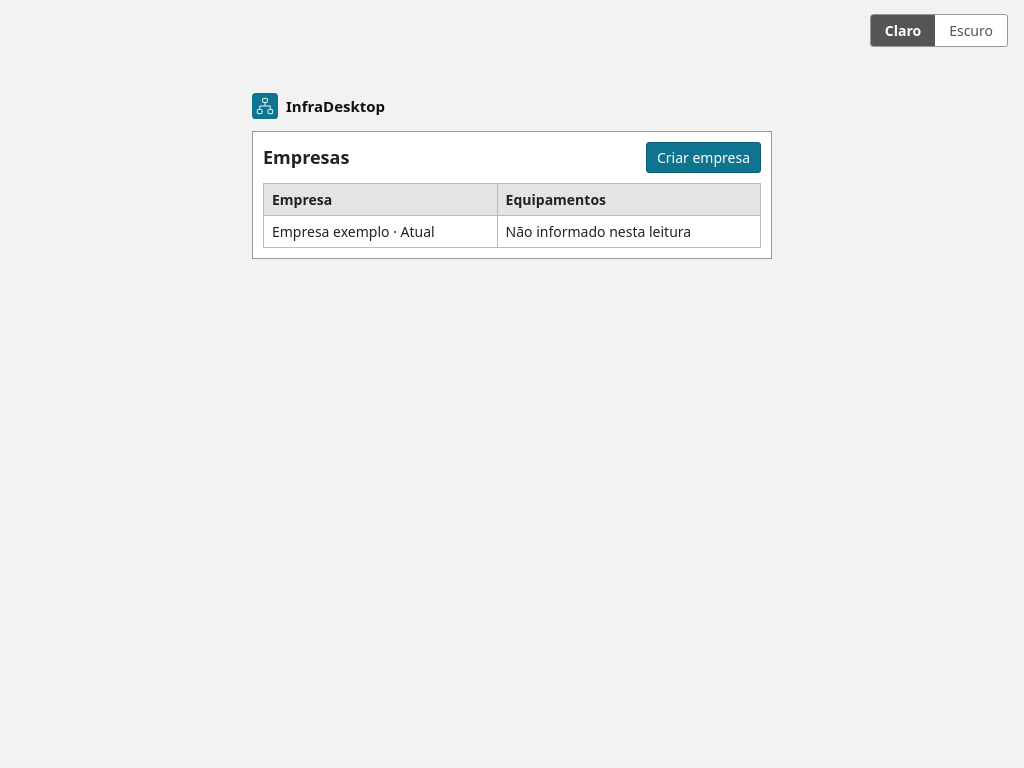
Test case: opens the company list for remembered session and keeps the page after reconnecting
Expected: the heading "Empresas" is shown, [263,145,349,169]
Expected: the text "· Atual" is shown, [390,222,435,241]
Click the text "Empresa exemplo" at (380, 231), box [264,215,497,247]
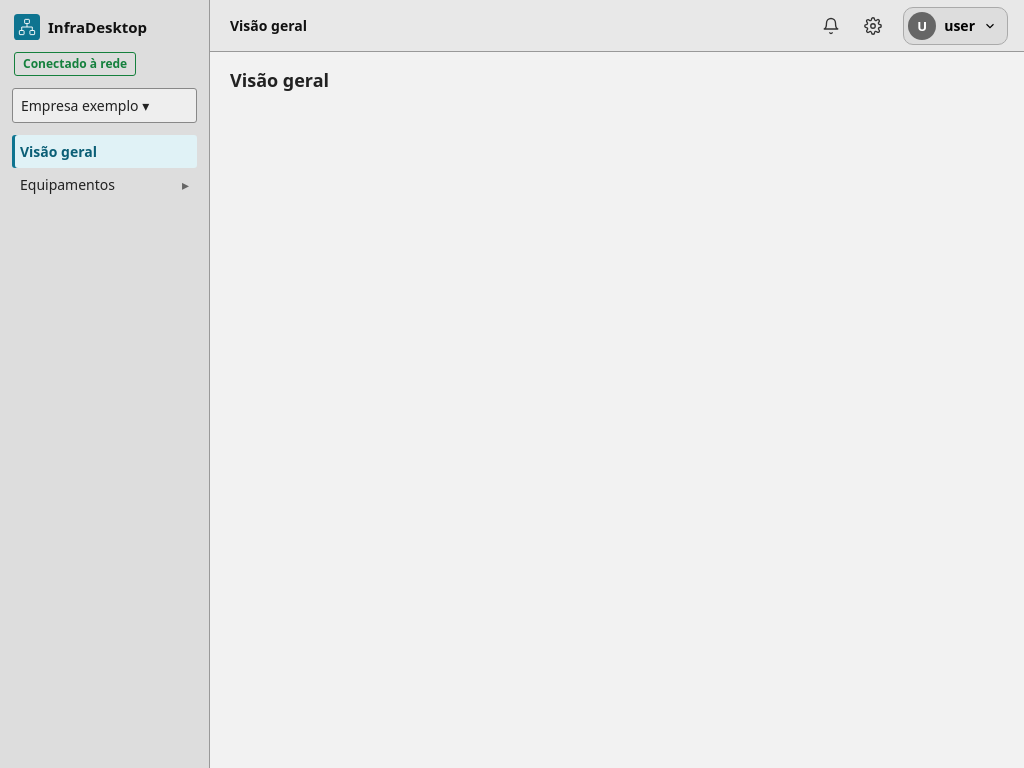
Expected: the heading "Visão geral" is shown, [230,68,329,92]
Click the button named "Configurações" at (873, 26), box [855,8,891,44]
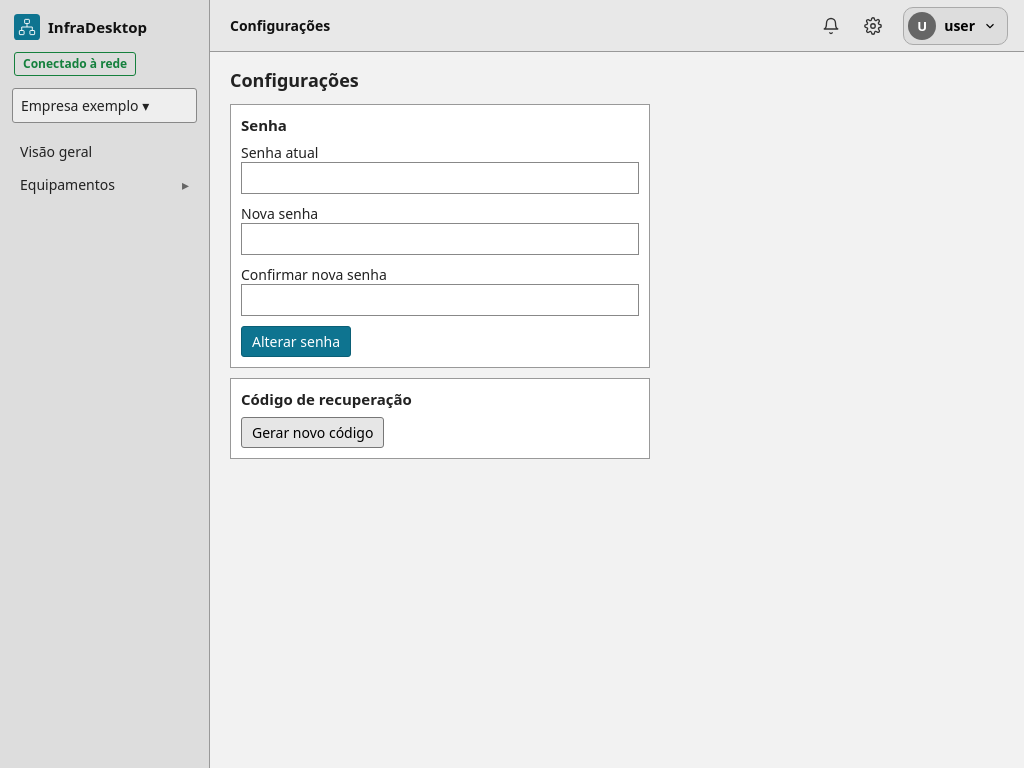
Expected: the heading "Configurações" is shown, [230,68,359,92]
